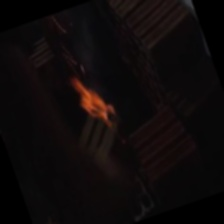fire: (50, 36, 128, 143)
